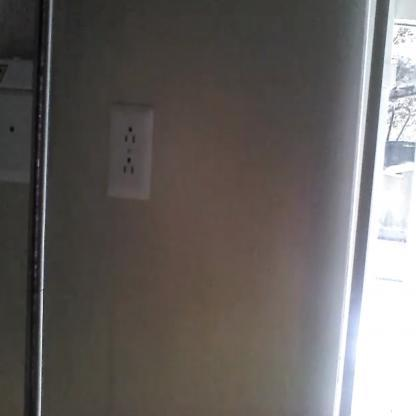OUTLET: (106, 107, 152, 197)
